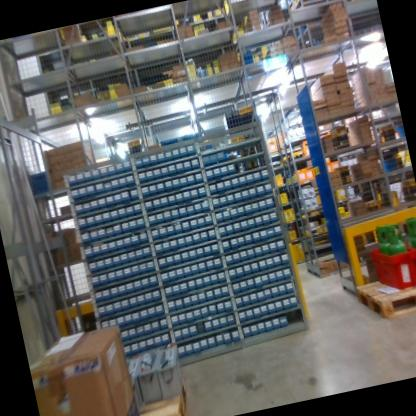pallet: (350, 262, 416, 328), (150, 370, 194, 416), (134, 392, 190, 416)
small_load_carrier: (362, 235, 416, 300), (404, 231, 416, 286)
